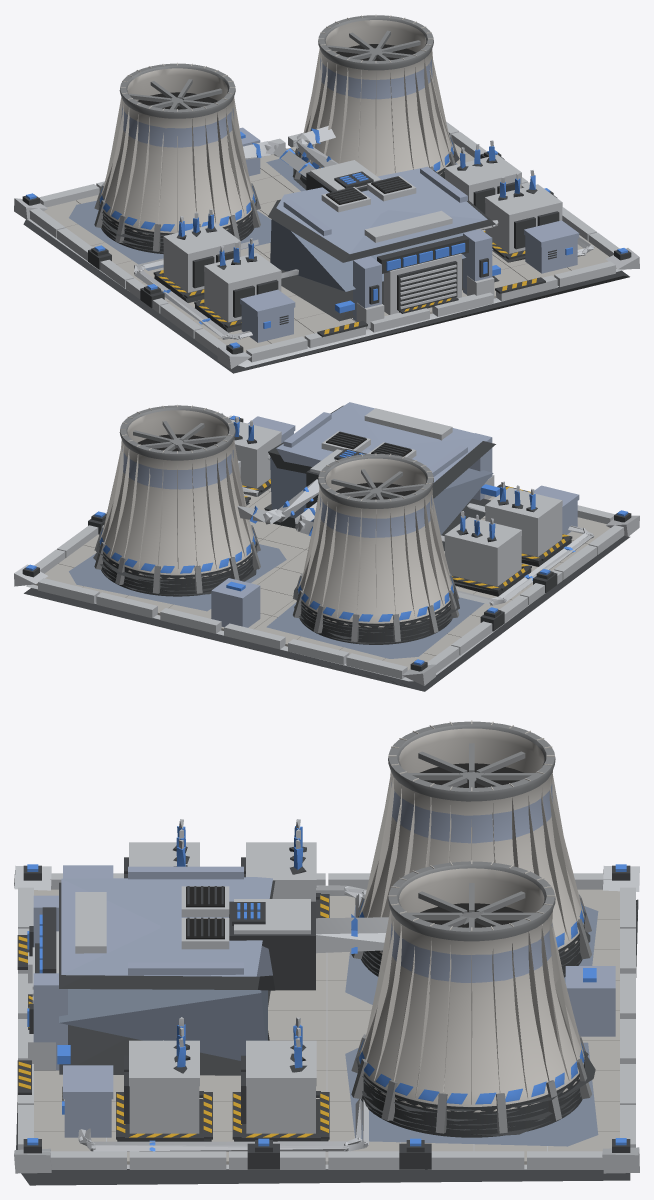
Rendered from power.glb.
3 views of the same model, one above another, from view 1: azimuth 30°, elevation 25°; view 2: azimuth 150°, elevation 25°; view 3: azimuth 270°, elevation 25° (orthographic). The views are drawn at different scales.
Parts seen in each view (by area): view 1: Base; view 2: Base; view 3: Base.
Boxes of the visible parts, x1,y1,x2,y2 form: Base: (14,14,639,373); Base: (14,402,639,691); Base: (14,720,639,1185).
Bounding box in the file's own units: 11.45 × 4.03 × 10.47.
